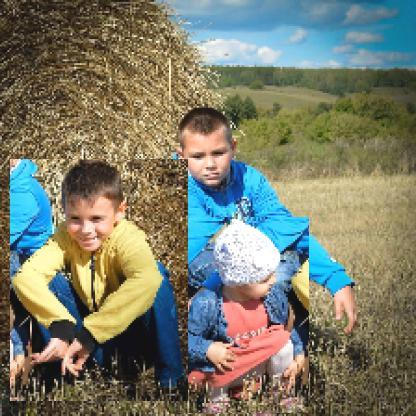child: (11, 160, 190, 403), (170, 218, 311, 415)
